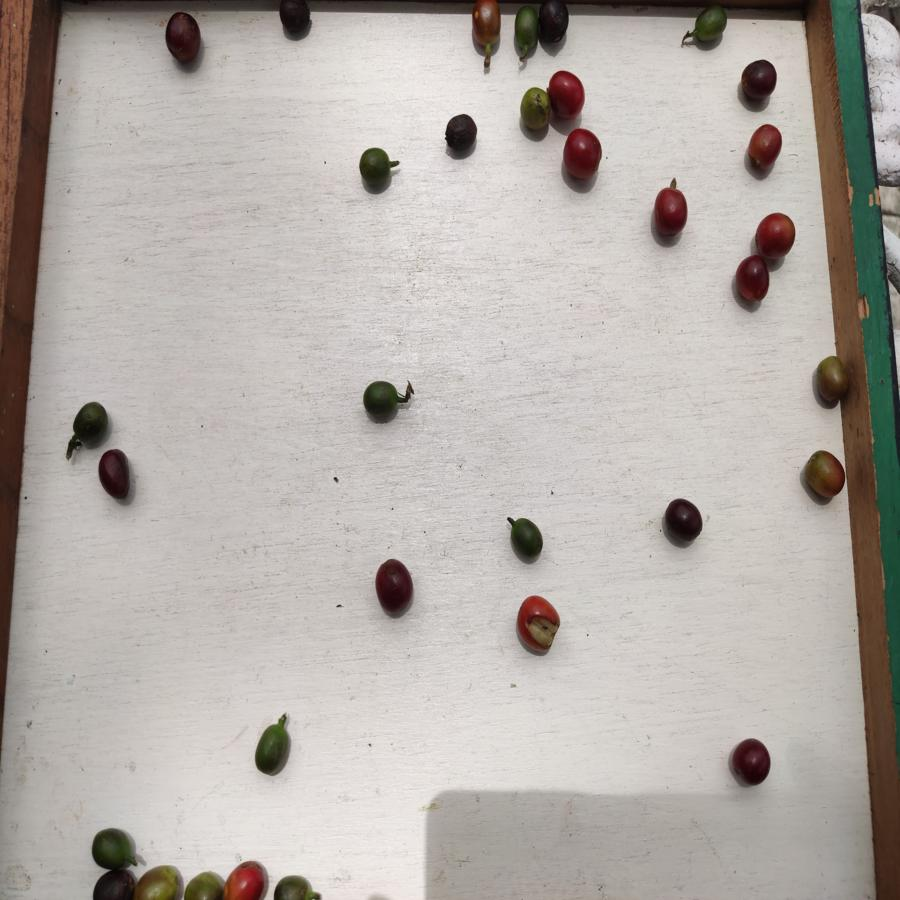Inmaduro: (254, 724, 287, 775), (71, 401, 108, 446), (92, 827, 133, 867), (506, 517, 545, 559), (362, 380, 402, 419), (358, 148, 394, 188), (512, 5, 538, 57), (694, 6, 728, 45), (271, 874, 313, 900)
Maduro: (515, 593, 560, 652), (562, 128, 603, 180), (753, 212, 797, 258), (221, 861, 269, 900), (550, 68, 586, 119), (653, 187, 688, 238), (748, 124, 783, 168)
Pinton: (801, 449, 847, 502), (812, 354, 850, 407), (518, 85, 550, 135), (137, 867, 180, 900), (471, 1, 502, 46), (184, 870, 225, 900)
Sobremaduro: (371, 558, 416, 614), (164, 11, 203, 65), (732, 255, 771, 308), (662, 497, 705, 542), (731, 736, 771, 784), (98, 448, 132, 502), (442, 114, 481, 156), (739, 59, 778, 100), (538, 1, 571, 47), (92, 869, 137, 900), (280, 1, 313, 38)
